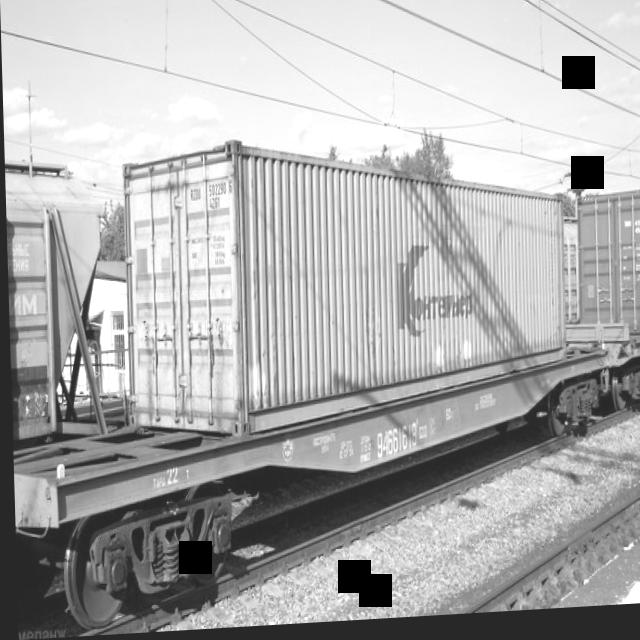container: (116, 127, 574, 455), (572, 188, 640, 348)
flatcar: (9, 341, 616, 640), (577, 320, 640, 423)
hopper: (4, 135, 113, 476)
